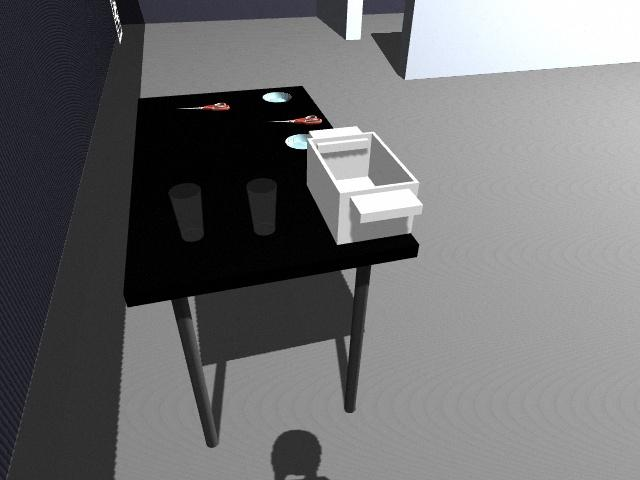cup: (166, 180, 208, 244), (246, 176, 282, 238)
plate: (261, 88, 294, 105), (284, 131, 309, 149)
scissors: (175, 99, 232, 113), (271, 113, 325, 125)
